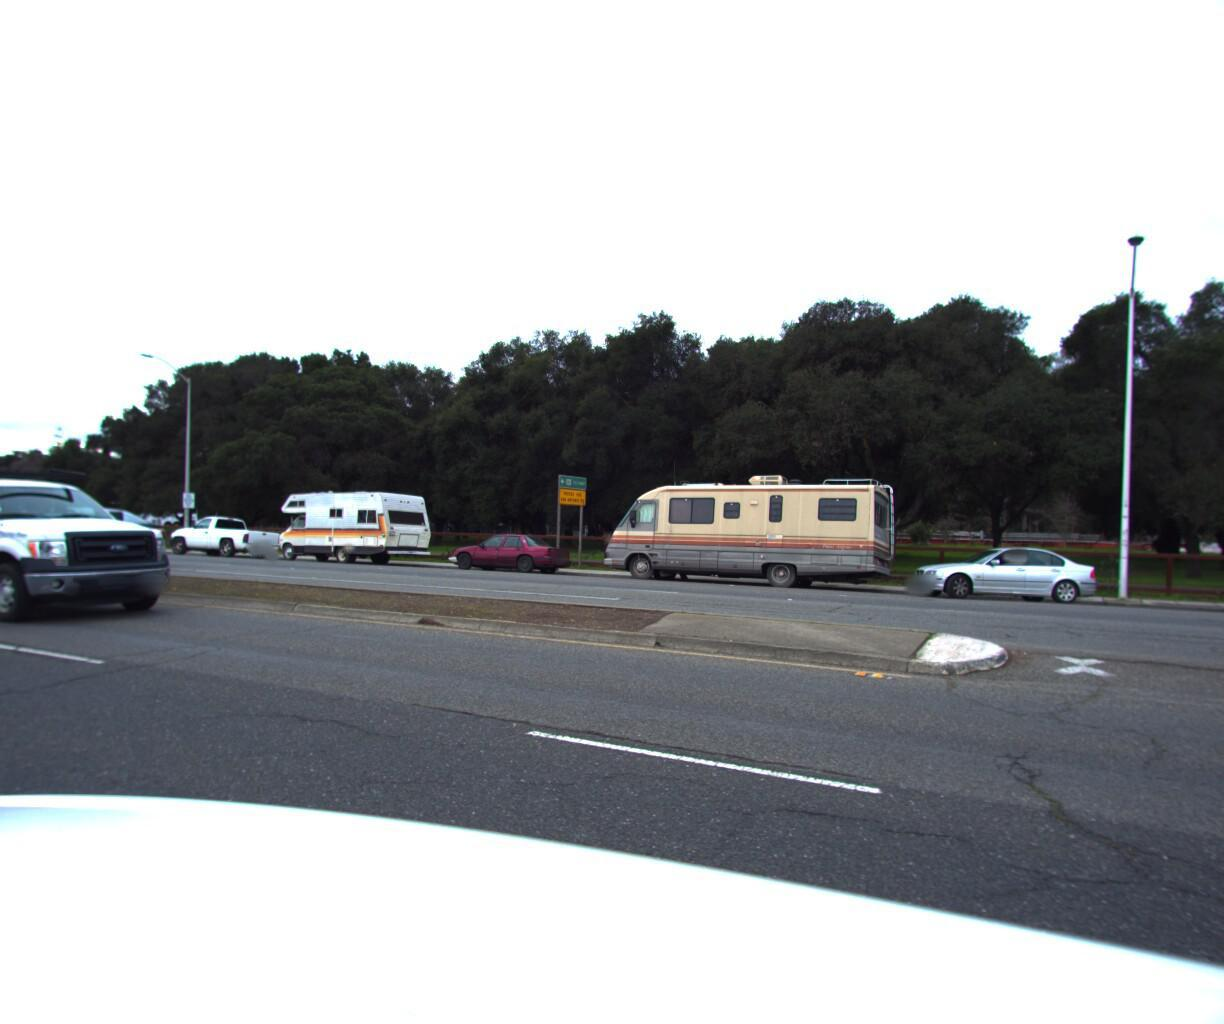car: (0, 458, 203, 633), (899, 537, 1109, 603), (0, 499, 186, 566), (158, 510, 285, 559), (439, 539, 557, 582)
other_vehicle: (264, 482, 440, 569)
truck: (587, 463, 906, 599), (1191, 516, 1224, 640)
